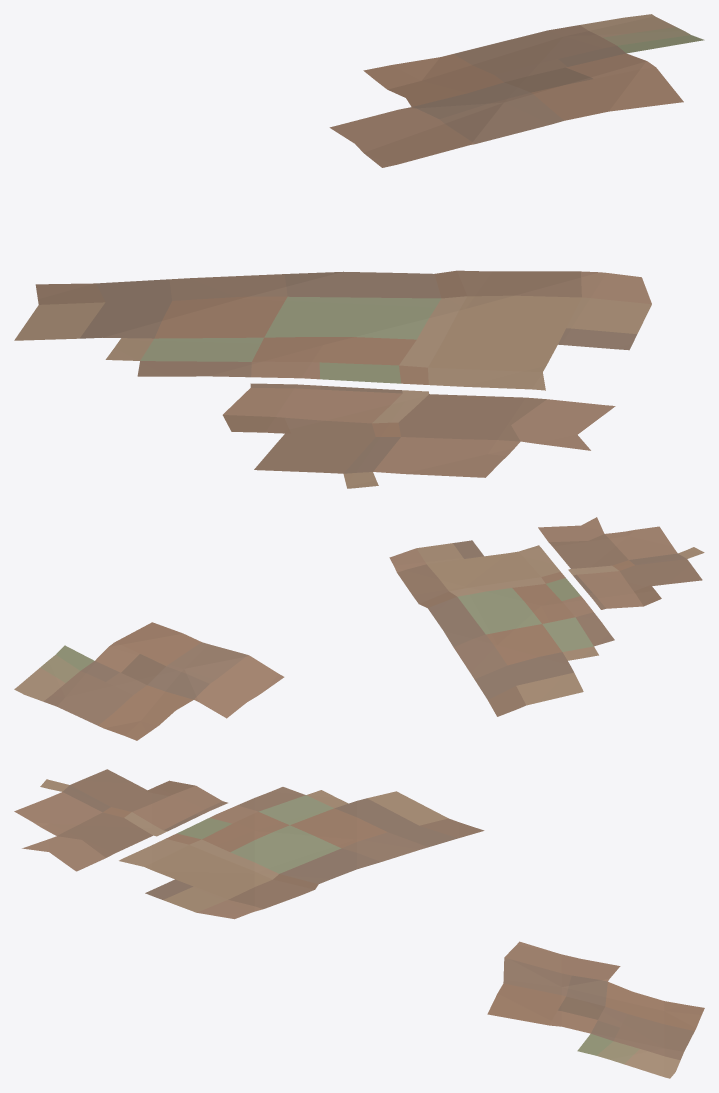
Rendered from farm_0_3_soil.glb.
The picture shows the model from 3 angles, top to bottom: view 1: azimuth 30°, elevation 25°; view 2: azimuth 150°, elevation 25°; view 3: azimuth 270°, elevation 25°; orthographic projection. The views are drawn at different scales.
Visible parts, largest first — view 1: geometry_0; view 2: geometry_0; view 3: geometry_0.
Boxes of the visible parts, x1,y1,x2,y2 form: geometry_0: [14, 14, 704, 488]; geometry_0: [14, 517, 704, 740]; geometry_0: [14, 769, 704, 1078].
Size of the model in its own units: 481 by 56.13 by 540.
